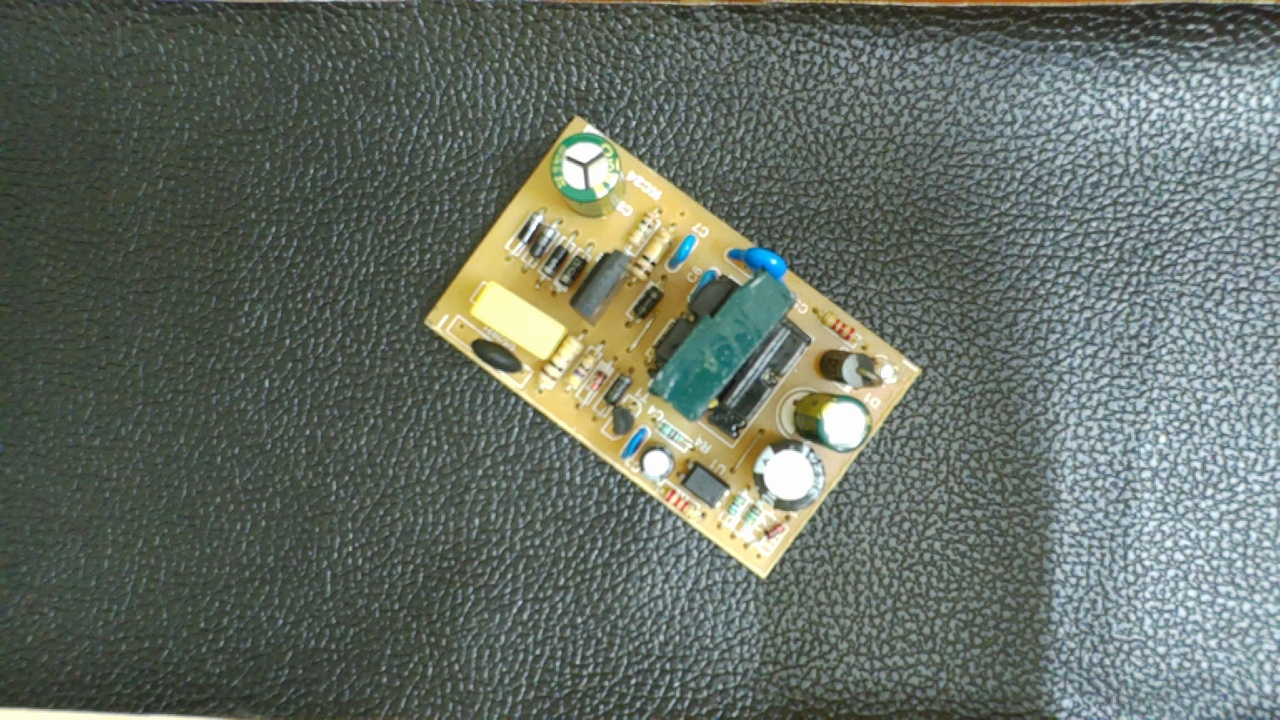fuse: (467, 333, 528, 375)
hv_capacitor: (546, 134, 630, 219)
mov: (725, 242, 791, 281)
optocoupler: (677, 459, 732, 507)
